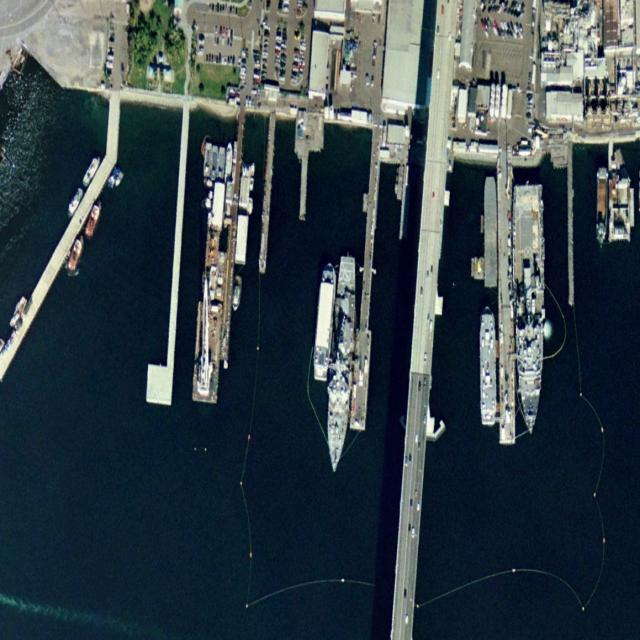Destroyer: (323, 255, 359, 473)
Landing: (511, 181, 549, 436)
Other Ship: (312, 259, 337, 381), (478, 306, 496, 427)
